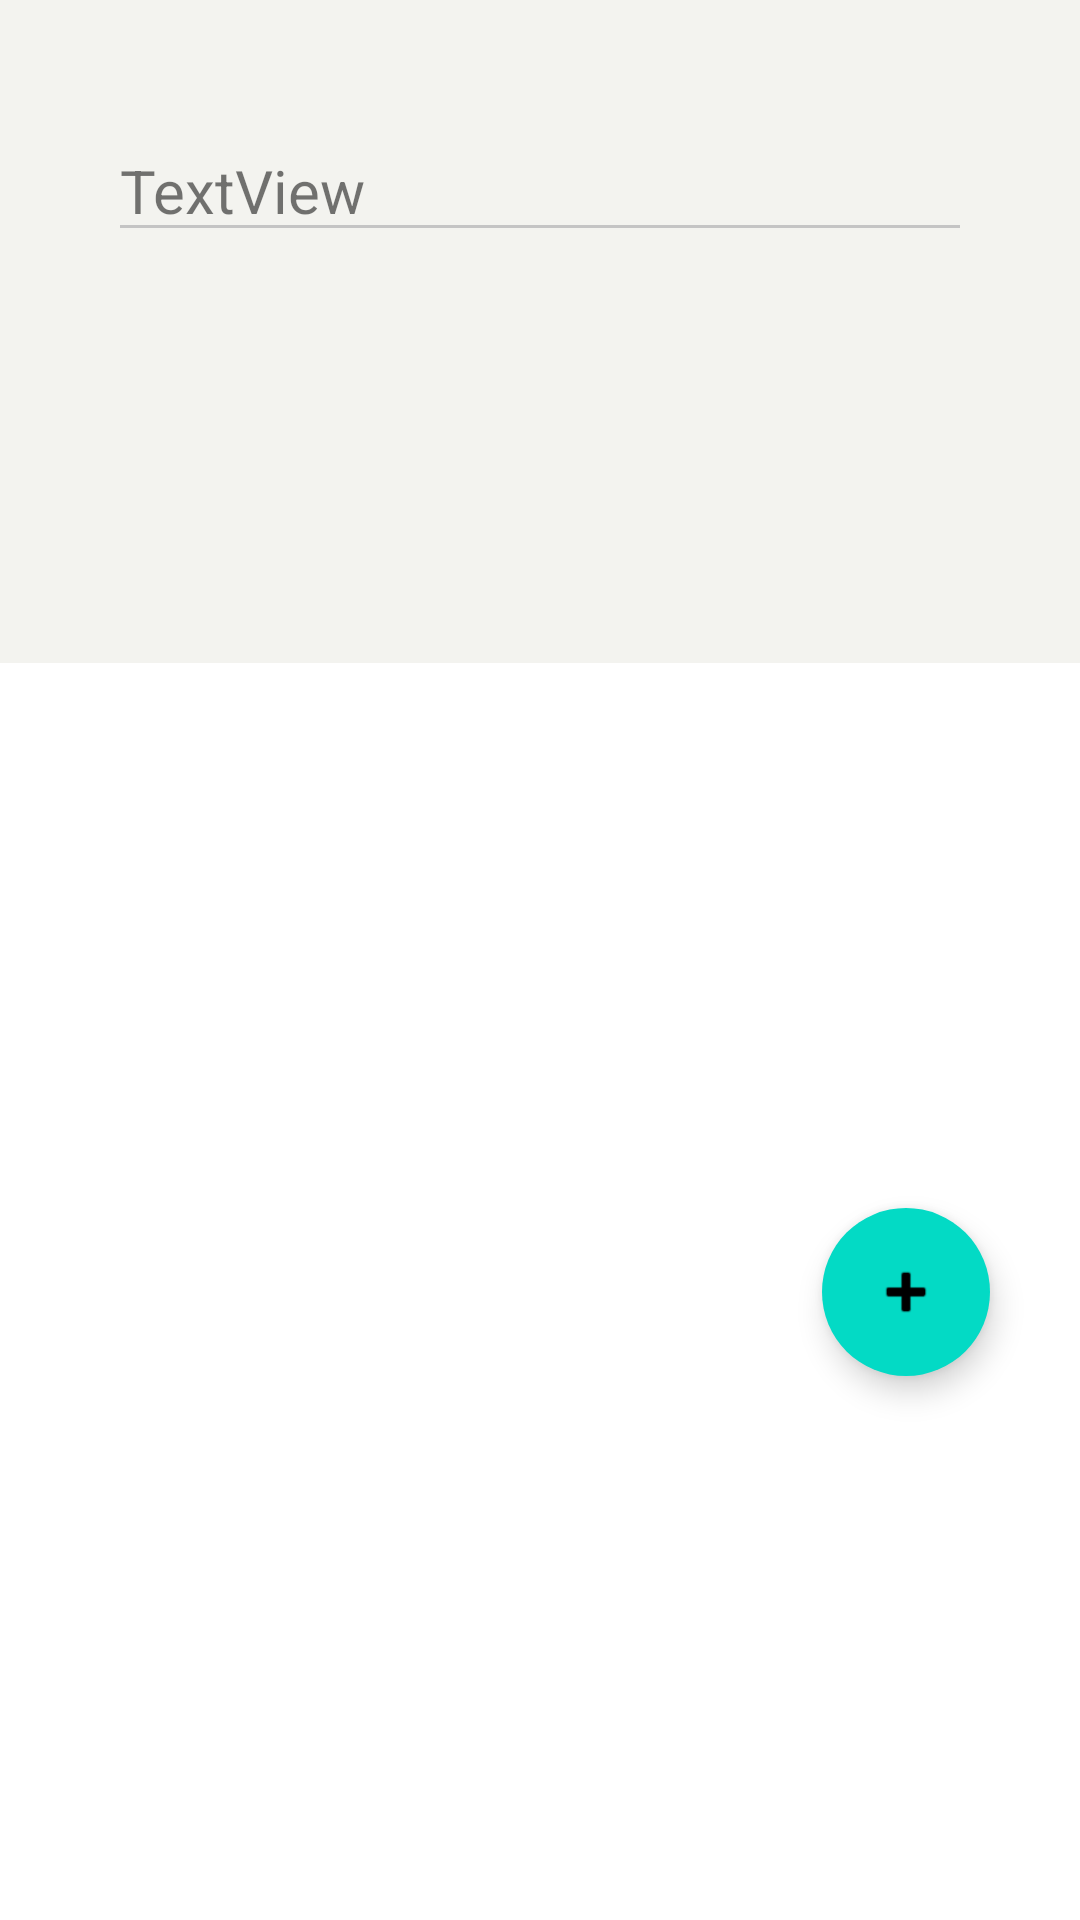

Icons on this 1080px×1920px Android screen, each with its box as (x1,y1,x2,y2):
add: (822,1208,990,1376)
